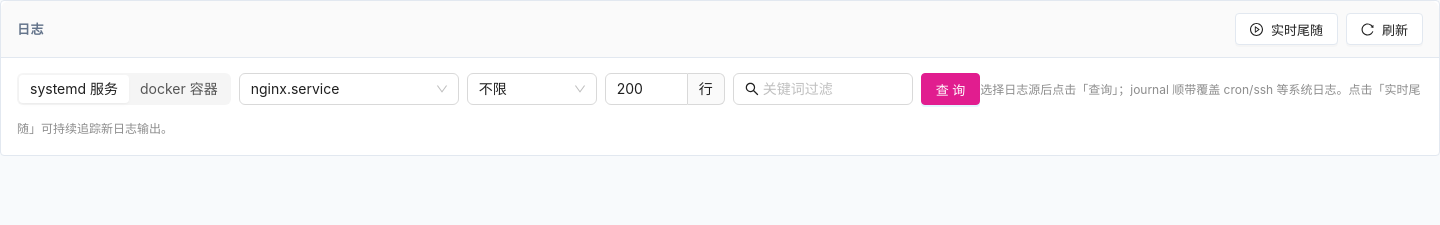
LogsPanel › 先选 docker 再感知 docker 缺失：提示该主机没有 docker 命令
Expected: the text "nginx.service" is shown, [251,80,340,97]
Click the text "docker 容器". click: click(179, 88)
box: [140,80,218,97]
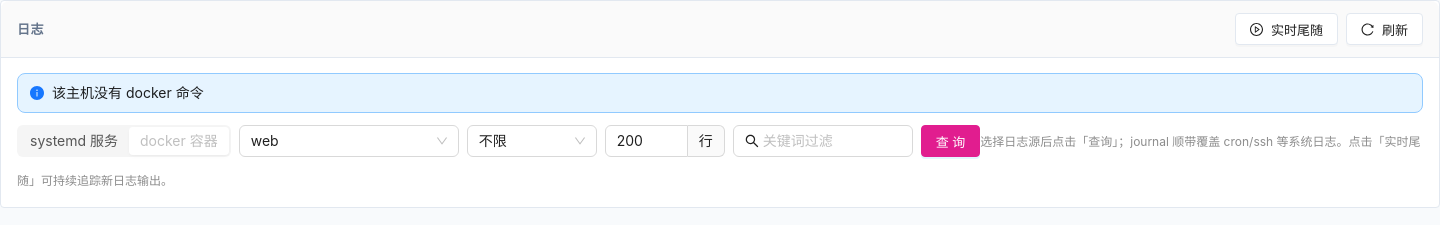
Now the text "该主机没有 docker 命令" is shown, box [52,84,204,101]
